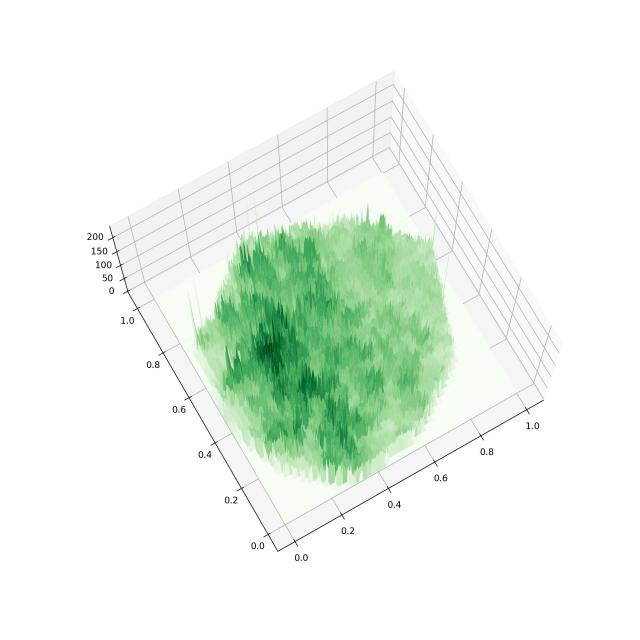fir: (61, 40, 578, 588)
